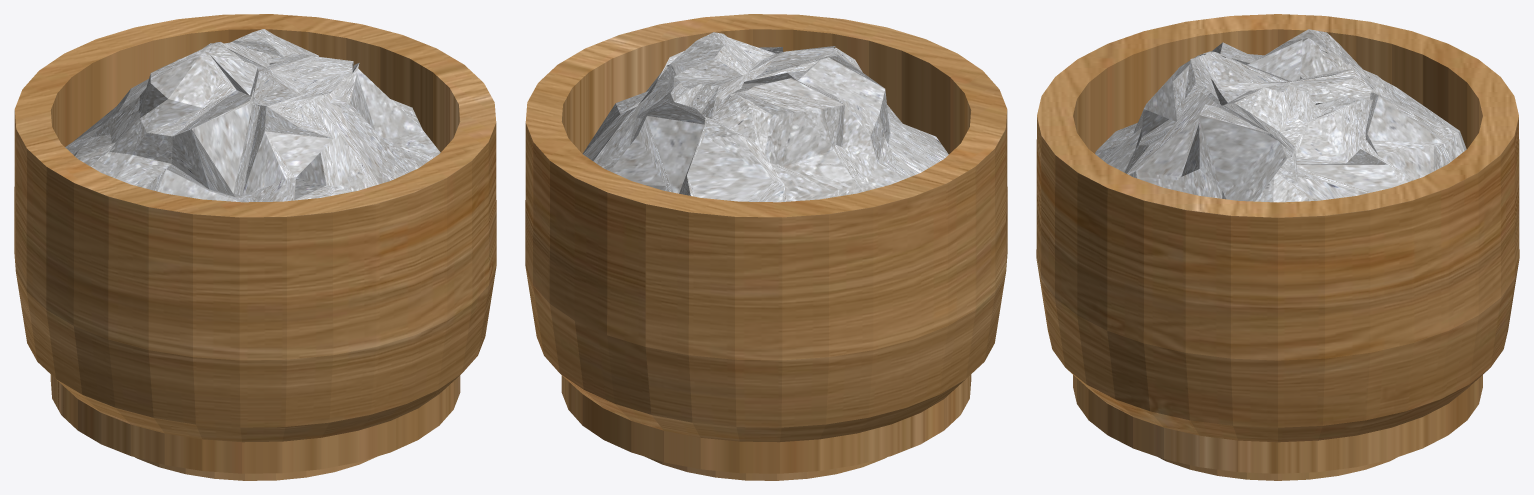
Rendered from Gula.fbx.
3 views of the same model, side by side, from view 1: azimuth 30°, elevation 25°; view 2: azimuth 150°, elevation 25°; view 3: azimuth 270°, elevation 25° (orthographic).
Visible parts, largest first — view 1: Cylinder, Sphere; view 2: Cylinder, Sphere; view 3: Cylinder, Sphere.
Boxes of the visible parts, x1,y1,x2,y2 form: Cylinder: (14,14,496,480); Sphere: (65,29,440,202); Cylinder: (525,14,1007,480); Sphere: (582,32,948,202); Cylinder: (1036,14,1519,480); Sphere: (1095,29,1466,202).
Size of the model in its own units: 306 by 250 by 306.
